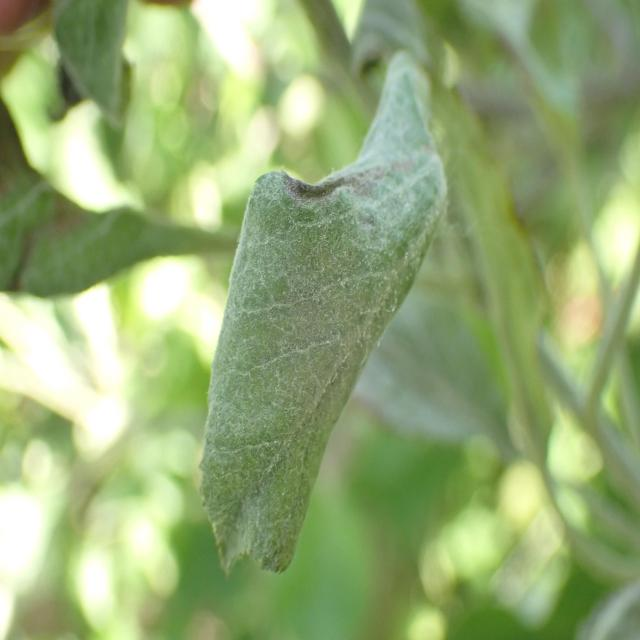Powdery_mildew: (191, 4, 464, 610)
